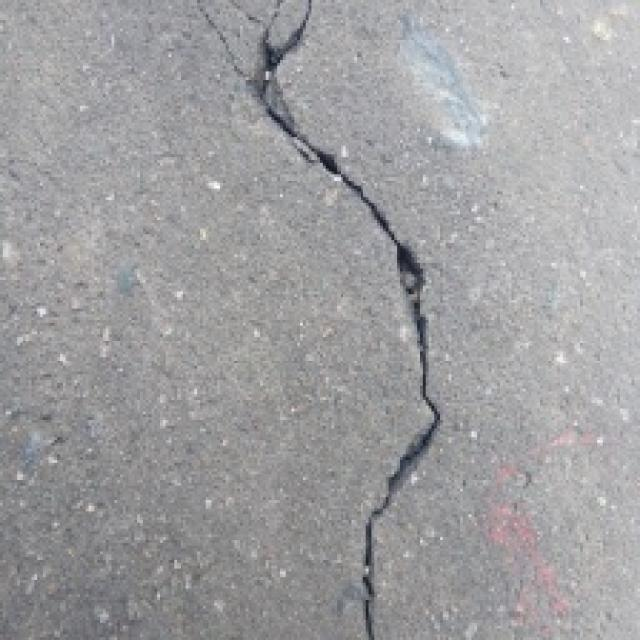crack: (194, 0, 456, 640)
